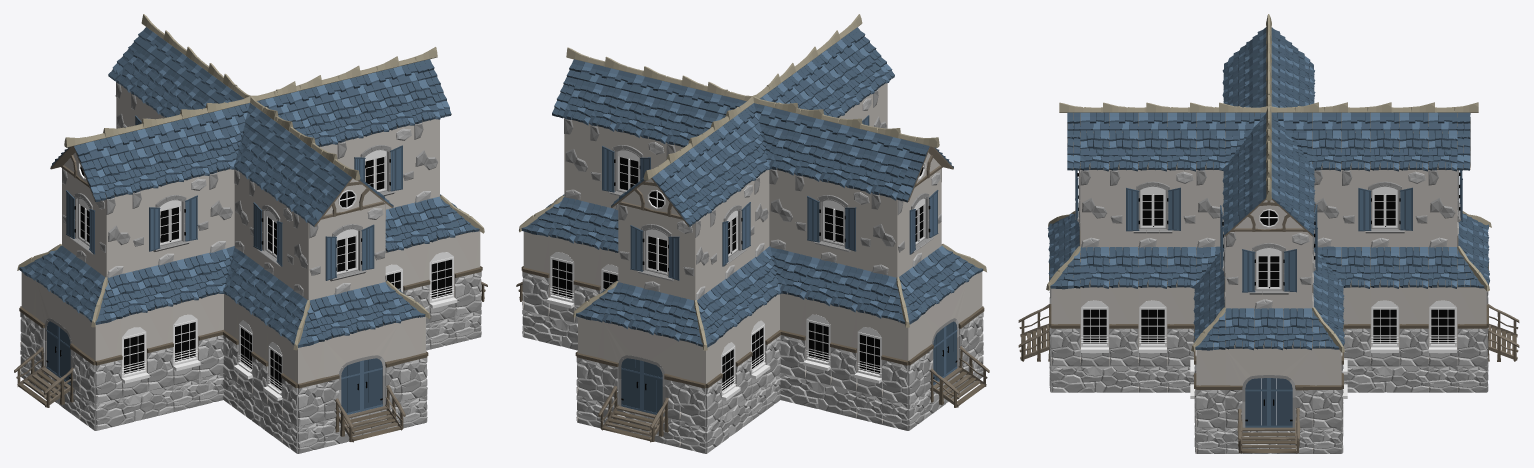
Rendered from house_15.fbx.
3 renders of one model, left to right at view 1: azimuth 30°, elevation 25°; view 2: azimuth 150°, elevation 25°; view 3: azimuth 270°, elevation 25°, orthographic. The views are drawn at different scales.
Parts seen in each view (by area): view 1: WINDOW_05_10, DOOR_05_2, WINDOW_05_2, WINDOW_05_5, WINDOW_05_3, DOOR_05_5, WINDOW_05_8, FOUNDATION_01_12, WALL_04_58, WINDOW_02_31, WALL_04_57, WINDOW_02_23 (+88 smaller); view 2: WINDOW_05_9, DOOR_05_4, WINDOW_05_12, WINDOW_05_7, WINDOW_05_13, DOOR_05_5, WINDOW_05_8, WALL_03_13, WINDOW_02_28, WALL_04_61, WALL_04_62, FOUNDATION_01_10 (+87 smaller); view 3: DOOR_05_3, WINDOW_05_6, WINDOW_05_11, WINDOW_05_4, WINDOW_02_20, WALL_04_81, WINDOW_02_21, WINDOW_02_34, WALL_04_70, WINDOW_02_25, FOUNDATION_01_3, WALL_04_69 (+62 smaller).
Part boxes in pixels (left/top/right/bottom): WINDOW_05_10: left=132, top=175, right=208, bottom=271; DOOR_05_2: left=323, top=323, right=401, bottom=420; WINDOW_05_2: left=308, top=204, right=385, bottom=300; WINDOW_05_5: left=337, top=125, right=414, bottom=209; WINDOW_05_3: left=249, top=180, right=293, bottom=289; DOOR_05_5: left=34, top=282, right=80, bottom=392; WINDOW_05_8: left=62, top=168, right=107, bottom=277; FOUNDATION_01_12: left=95, top=385, right=173, bottom=430; WALL_04_58: left=94, top=318, right=122, bottom=403; WINDOW_02_31: left=172, top=300, right=200, bottom=384; WALL_04_57: left=147, top=306, right=173, bottom=391; WINDOW_02_23: left=429, top=237, right=457, bottom=322; WINDOW_05_9: left=795, top=174, right=871, bottom=271; DOOR_05_4: left=602, top=322, right=680, bottom=420; WINDOW_05_12: left=618, top=204, right=695, bottom=300; WINDOW_05_7: left=589, top=124, right=666, bottom=210; WINDOW_05_13: left=710, top=181, right=754, bottom=290; DOOR_05_5: left=923, top=282, right=969, bottom=392; WINDOW_05_8: left=896, top=168, right=941, bottom=276; WALL_03_13: left=871, top=193, right=898, bottom=277; WINDOW_02_28: left=803, top=299, right=831, bottom=385; WALL_04_61: left=881, top=317, right=908, bottom=403; WALL_04_62: left=830, top=305, right=856, bottom=391; FOUNDATION_01_10: left=780, top=373, right=857, bottom=418; DOOR_05_3: left=1225, top=348, right=1312, bottom=427; WINDOW_05_6: left=1225, top=231, right=1312, bottom=308; WINDOW_05_11: left=1341, top=170, right=1428, bottom=247; WINDOW_05_4: left=1109, top=170, right=1196, bottom=247; WINDOW_02_20: left=1080, top=287, right=1109, bottom=366; WALL_04_81: left=1109, top=287, right=1138, bottom=366; WINDOW_02_21: left=1138, top=287, right=1167, bottom=366; WINDOW_02_34: left=1428, top=287, right=1457, bottom=366; WALL_04_70: left=1399, top=287, right=1428, bottom=366; WINDOW_02_25: left=1370, top=287, right=1399, bottom=366; FOUNDATION_01_3: left=1051, top=366, right=1138, bottom=392; WALL_04_69: left=1457, top=287, right=1486, bottom=366.
Bounding box in the file's own units: 1727 × 986 × 1727.
